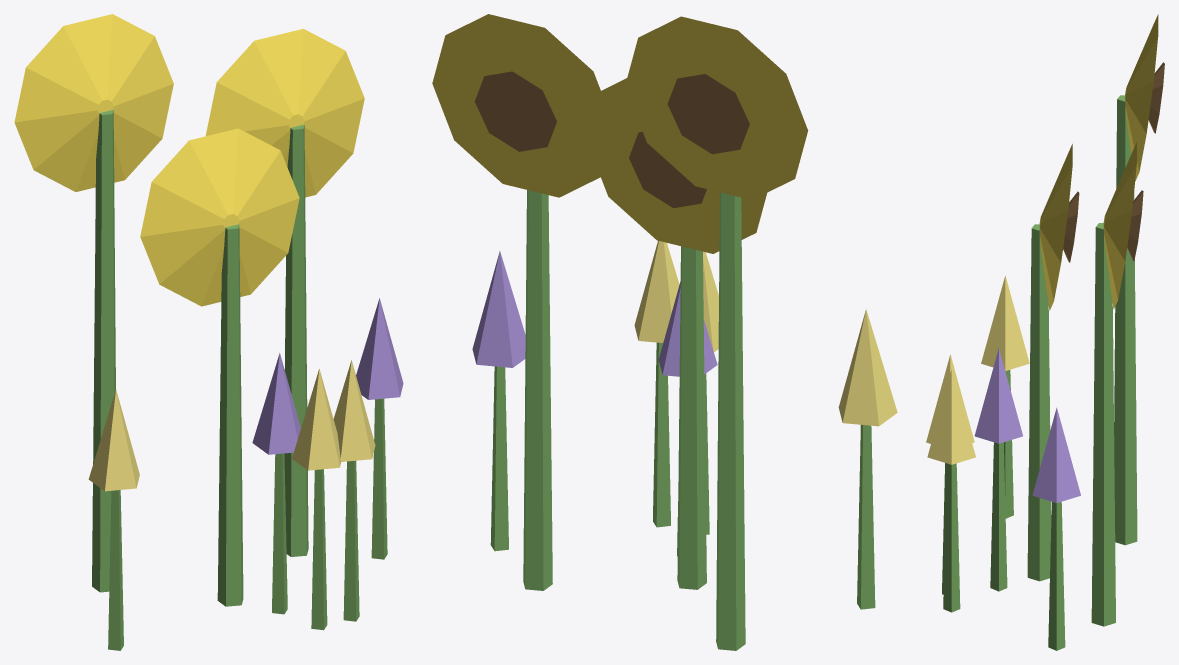
The model's file is flowers.glb.
The picture shows the model from 3 angles, left to right: view 1: azimuth 30°, elevation 25°; view 2: azimuth 150°, elevation 25°; view 3: azimuth 270°, elevation 25°; orthographic projection. The views are drawn at different scales.
Visible parts, largest first — view 1: flowers-sun, flowers-stalk, flowers-daff, flowers-lav; view 2: flowers-sun, flowers-stalk, flowers-sunc, flowers-daff, flowers-lav; view 3: flowers-stalk, flowers-sun, flowers-daff, flowers-lav, flowers-sunc.
Part boxes in pixels (bbox=[...]): flowers-sun: bbox=[14, 14, 364, 306]; flowers-stalk: bbox=[92, 109, 387, 650]; flowers-daff: bbox=[88, 360, 375, 491]; flowers-lav: bbox=[252, 298, 403, 454]; flowers-sun: bbox=[432, 14, 808, 253]; flowers-stalk: bbox=[490, 190, 875, 650]; flowers-sunc: bbox=[474, 71, 749, 208]; flowers-daff: bbox=[634, 240, 897, 426]; flowers-lav: bbox=[472, 251, 717, 376]; flowers-stalk: bbox=[942, 95, 1137, 650]; flowers-sun: bbox=[1039, 14, 1158, 310]; flowers-daff: bbox=[926, 275, 1029, 464]; flowers-lav: bbox=[974, 348, 1080, 502]; flowers-sunc: bbox=[1063, 62, 1164, 262].
Size of the model in its own units: 0.8547 by 1.33 by 0.5587.
